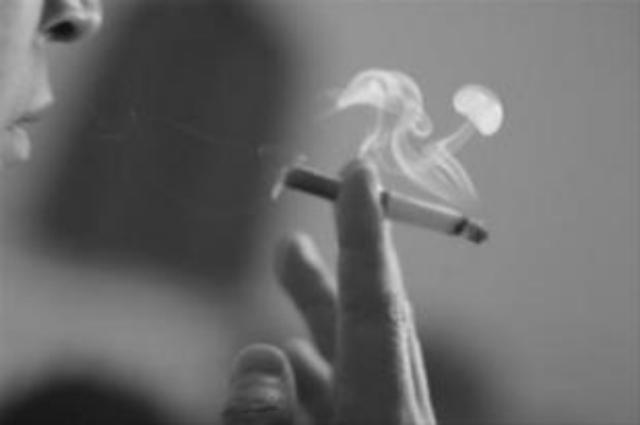Cigarette: (283, 161, 491, 249)
